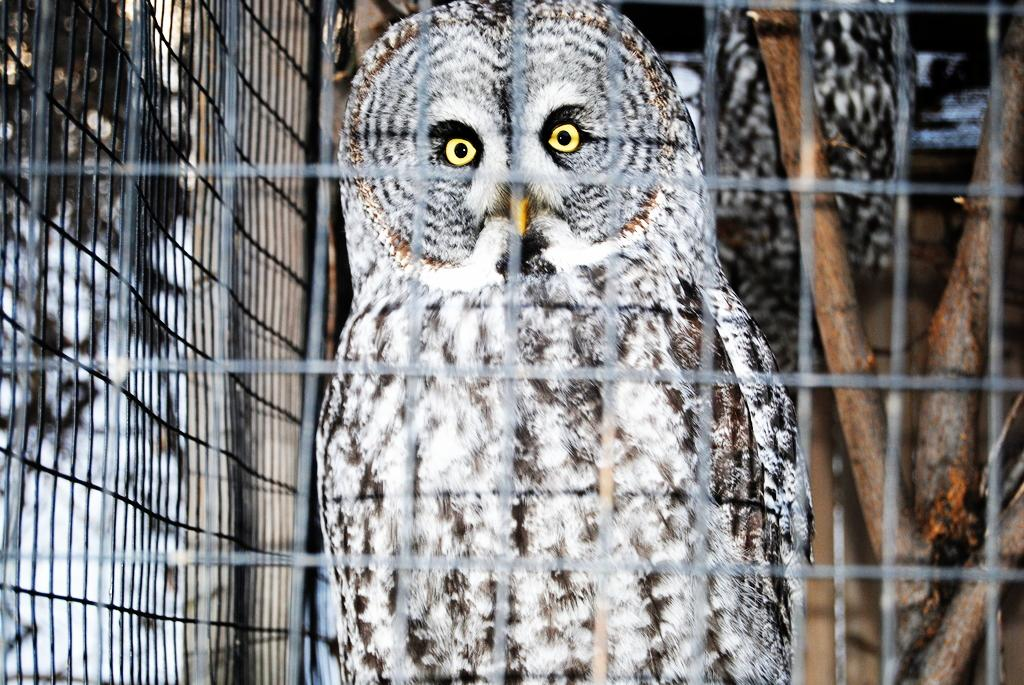Owl: (290, 40, 820, 626)
